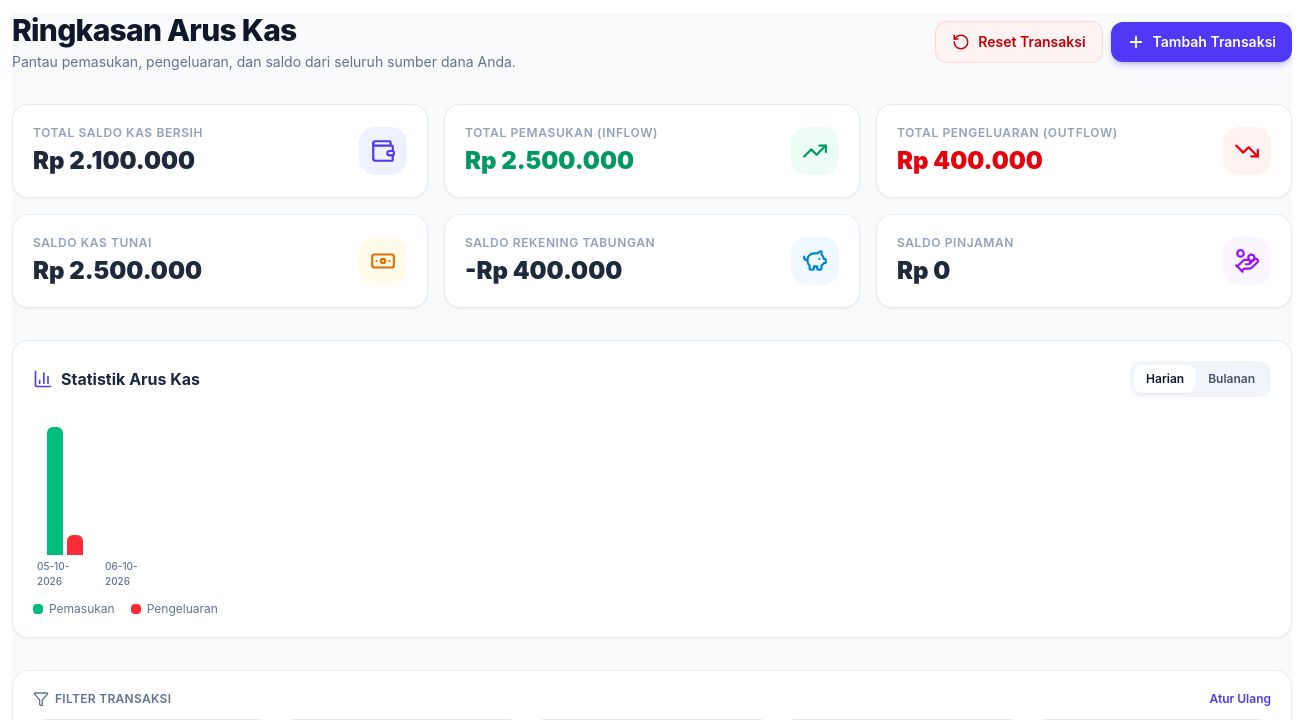
Scenario: HomePage › should render daily chart and switch to monthly
The width and height of the screenshot is (1304, 720).
Expected: the element with test id "chart-bar-05-10-2026" is shown, [37,427,83,587]
Expected: the element with test id "chart-bar-06-10-2026" is shown, [105,560,138,587]
Click the button with test id "chart-monthly-btn": (1232, 379) [1196,365,1267,393]
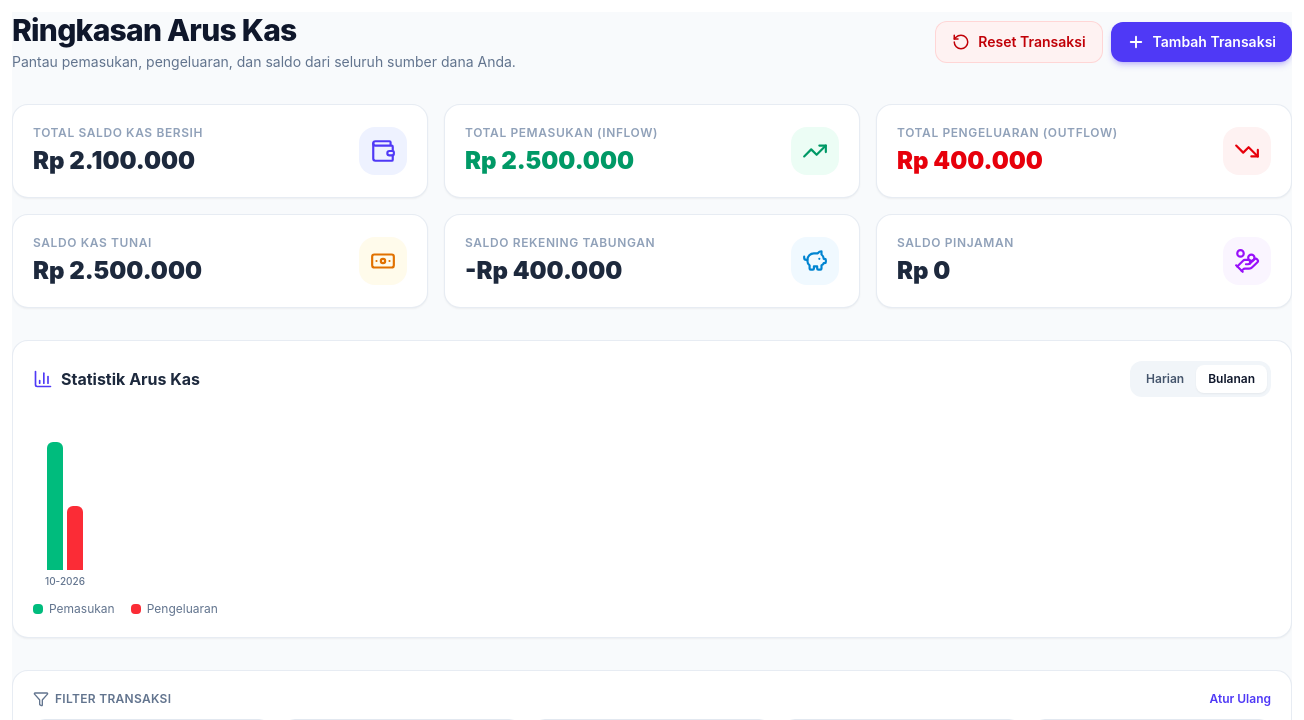
Expected: the element with test id "chart-bar-10-2026" is shown, [45,442,85,587]
Click the button with test id "chart-daily-btn": (1165, 379) [1134,365,1196,393]
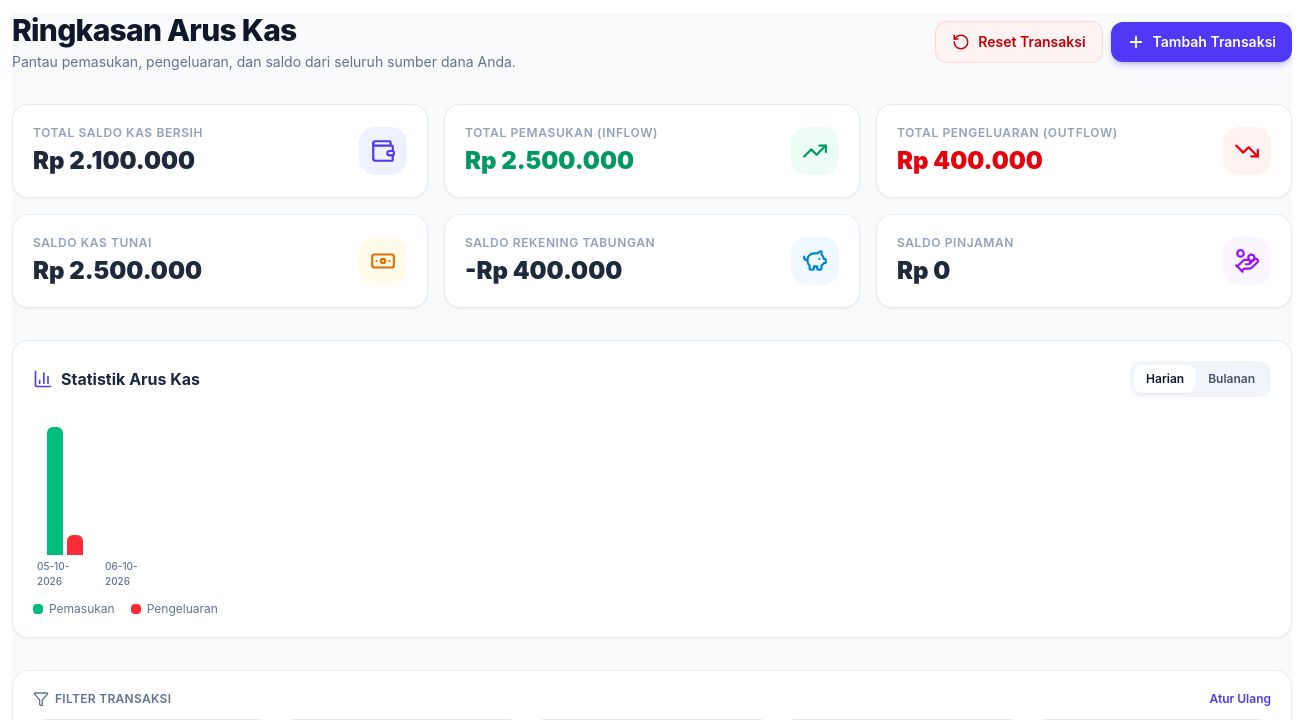
Expected: the element with test id "chart-bar-05-10-2026" is shown, [37,427,83,587]
